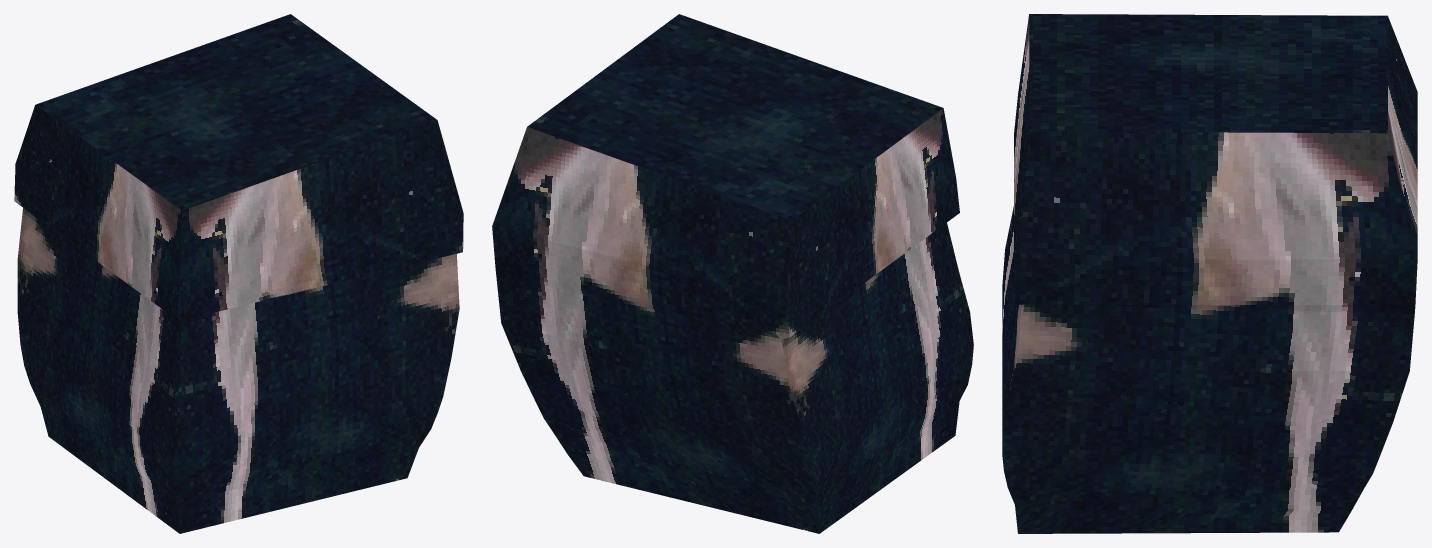
The picture shows the model from 3 angles, left to right: view 1: azimuth 30°, elevation 25°; view 2: azimuth 150°, elevation 25°; view 3: azimuth 270°, elevation 25°; orthographic projection. The views are drawn at different scales.
Parts seen in each view (by area): view 1: SPLICE_2; view 2: SPLICE_2; view 3: SPLICE_2.
Part boxes in pixels (box(x1,y1,x2,y2)): SPLICE_2: box(14, 14, 463, 533); SPLICE_2: box(492, 14, 973, 533); SPLICE_2: box(1002, 14, 1417, 533).
Bounding box in the file's own units: 1.29 × 1.45 × 1.29.
Materials: 1 (1 with a texture image).
